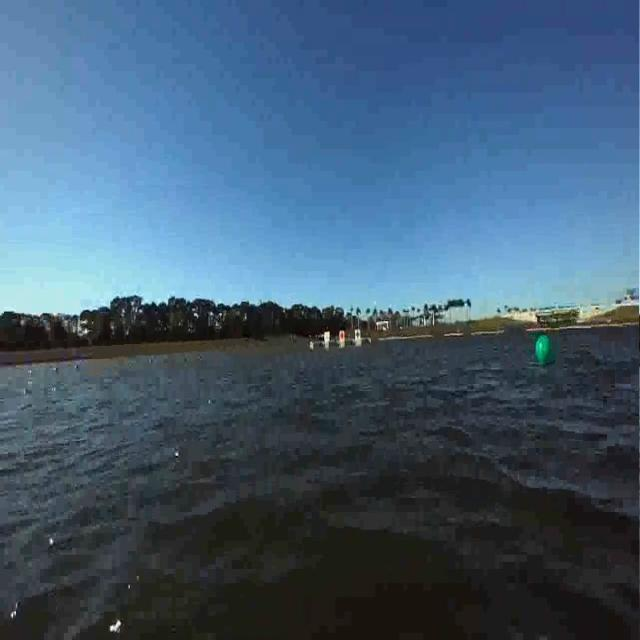green-buoy: (534, 335, 552, 363)
